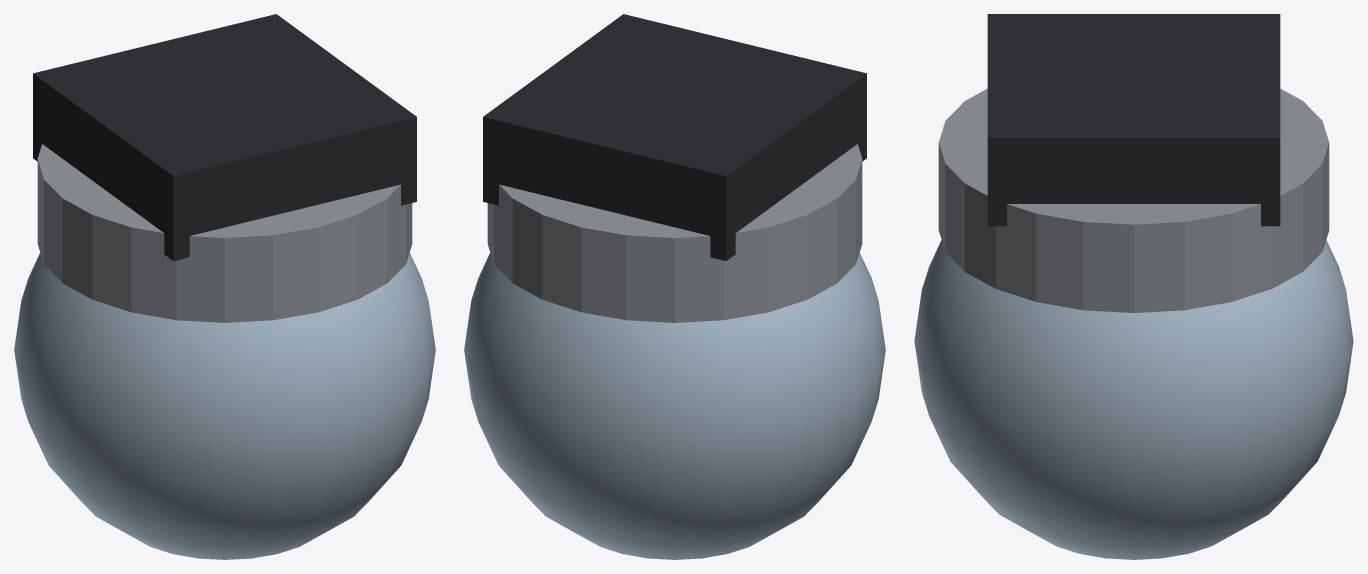
File: hm_bank_camera_dome_v2.obj
3 renders of one model, left to right at view 1: azimuth 30°, elevation 25°; view 2: azimuth 150°, elevation 25°; view 3: azimuth 270°, elevation 25°, orthographic. The views are drawn at different scales.
Visible parts, largest first — view 1: CAM_Dome, CAM_Mount, CAM_Base; view 2: CAM_Dome, CAM_Mount, CAM_Base; view 3: CAM_Dome, CAM_Mount, CAM_Base.
Part boxes in pixels (<box>): CAM_Dome: <box>14,253,435,559</box>; CAM_Mount: <box>33,14,416,260</box>; CAM_Base: <box>37,144,412,322</box>; CAM_Dome: <box>464,253,885,559</box>; CAM_Mount: <box>483,14,866,260</box>; CAM_Base: <box>487,144,862,322</box>; CAM_Dome: <box>914,240,1353,559</box>; CAM_Mount: <box>987,14,1280,226</box>; CAM_Base: <box>938,88,1329,312</box>.
Bounding box in the file's own units: 0.18 × 0.21 × 0.18.
